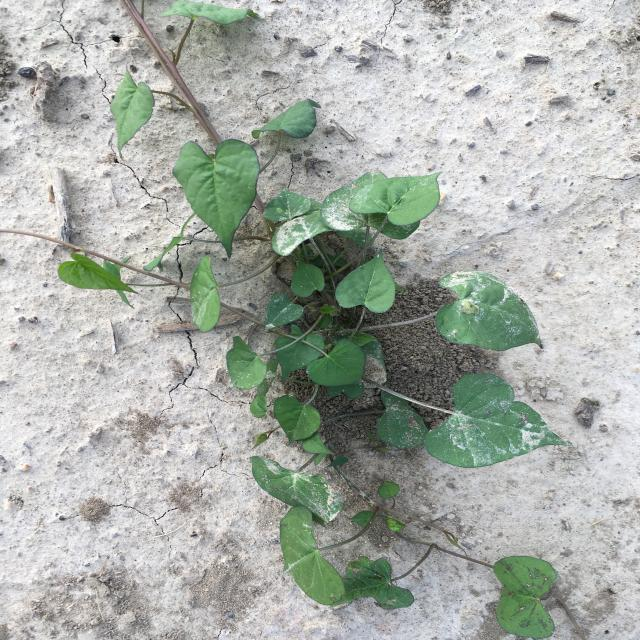MorningGlory: (56, 1, 572, 639)
